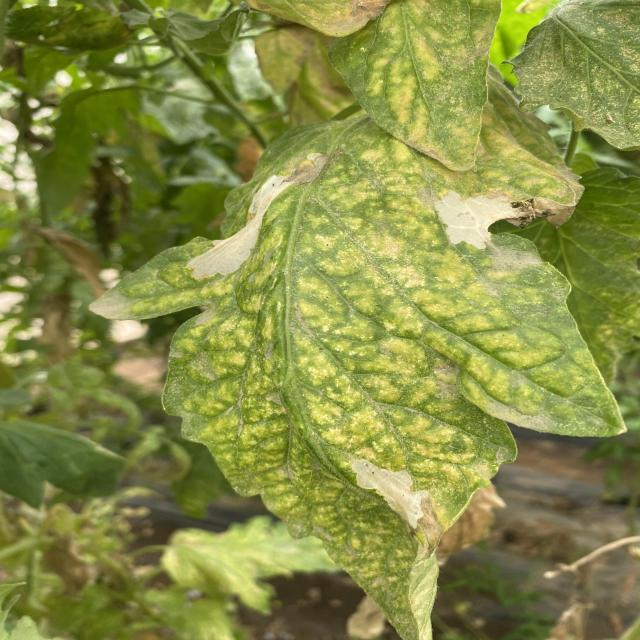Tuta absoluta: (184, 138, 336, 295), (344, 441, 442, 531), (428, 184, 519, 254)
